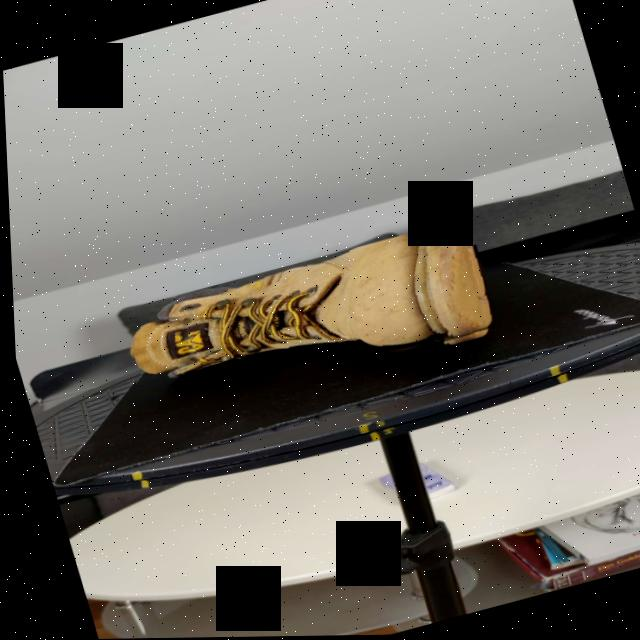shoe: (105, 218, 502, 429)
